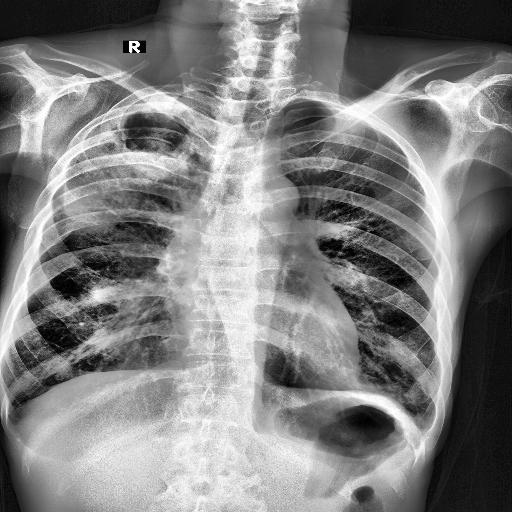0- Aortic enlargement: (236, 166, 302, 214)
10- Pleural effusion: (408, 412, 434, 454), (4, 396, 32, 434), (407, 412, 435, 445), (1, 398, 21, 436)
11- Pleural thickening: (0, 396, 30, 436), (408, 412, 434, 454), (4, 396, 32, 434), (405, 414, 435, 445), (407, 412, 435, 445), (1, 398, 21, 436)
4- Consolidation: (60, 100, 220, 234), (58, 96, 214, 232)
7- Lung Opacity: (52, 75, 214, 242), (60, 100, 220, 234)
